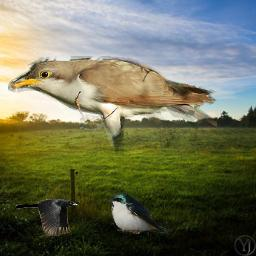Crow: (15, 198, 79, 236)
Cuckoo: (8, 56, 217, 156)
Swallow: (108, 192, 170, 234)
